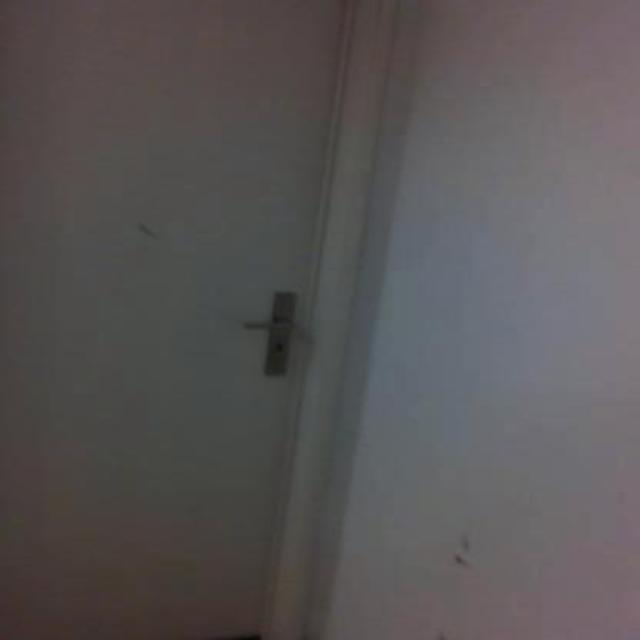door: (0, 0, 400, 638)
